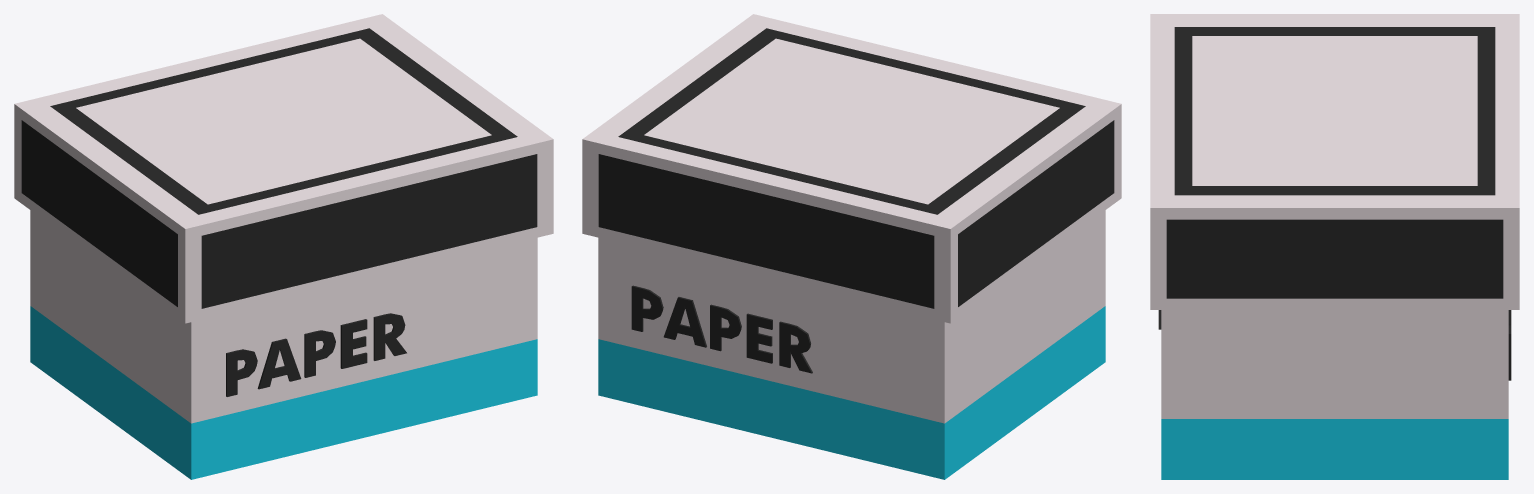
The model's file is paperbox.glb.
3 renders of one model, left to right at view 1: azimuth 30°, elevation 25°; view 2: azimuth 150°, elevation 25°; view 3: azimuth 270°, elevation 25°, orthographic. The views are drawn at different scales.
Parts seen in each view (by area): view 1: mesh_paper_01; view 2: mesh_paper_01; view 3: mesh_paper_01.
Boxes of the visible parts, box(x1,y1,x2,y2) form: mesh_paper_01: box(14, 14, 553, 479); mesh_paper_01: box(582, 14, 1121, 479); mesh_paper_01: box(1150, 14, 1519, 479).
Size of the model in its own units: 0.5273 by 0.3519 by 0.4244.
Materials: 1 (1 with a texture image).
